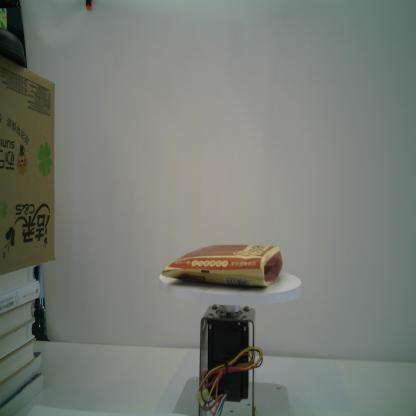Dried Food: (160, 242, 284, 289)
